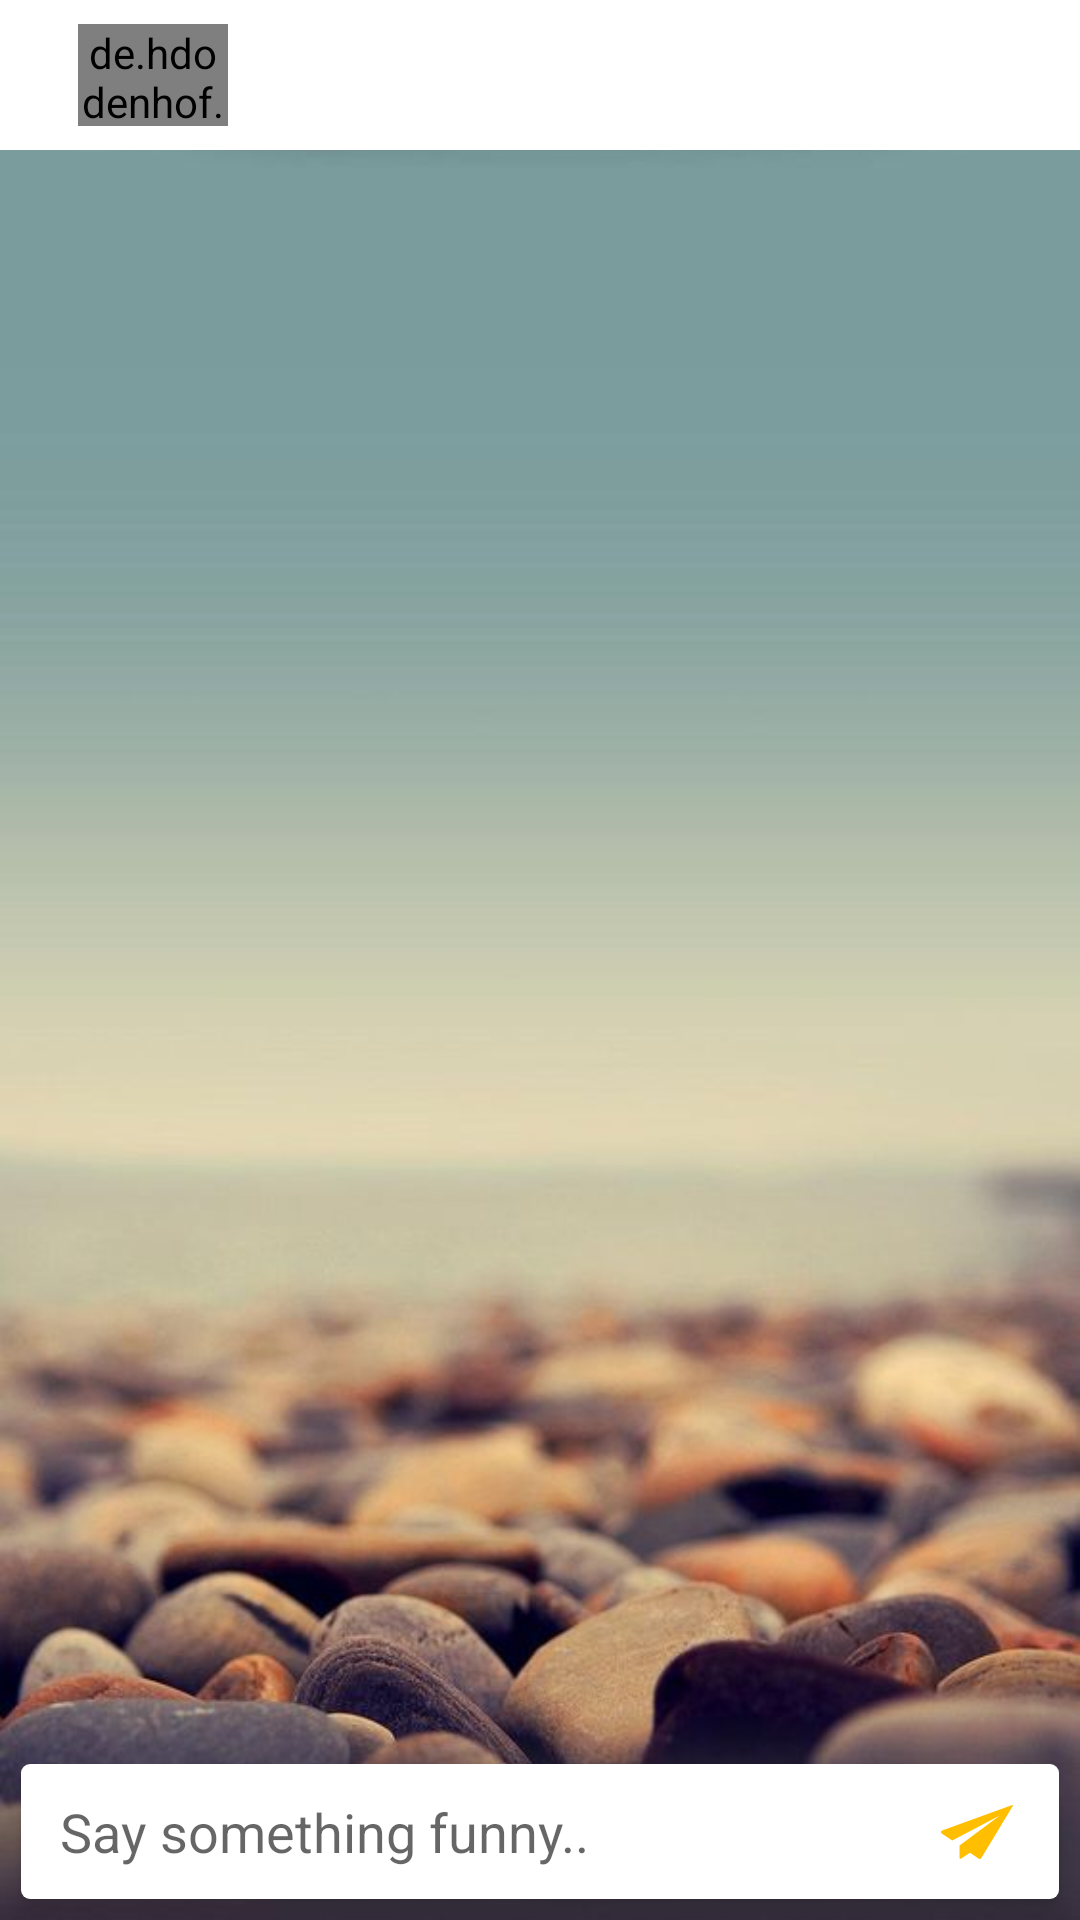

Icon bounding boxes for this 1080px×1920px phone screenshot, format bbox(x1, y1, x2, y2):
paper plane: bbox(941, 1805, 1013, 1859)
